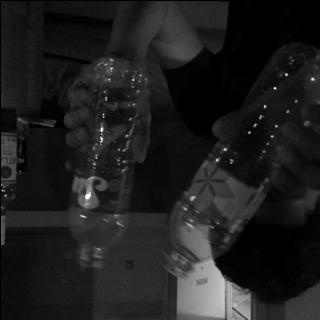plastic_bottles: (156, 46, 314, 282), (66, 56, 144, 268)
